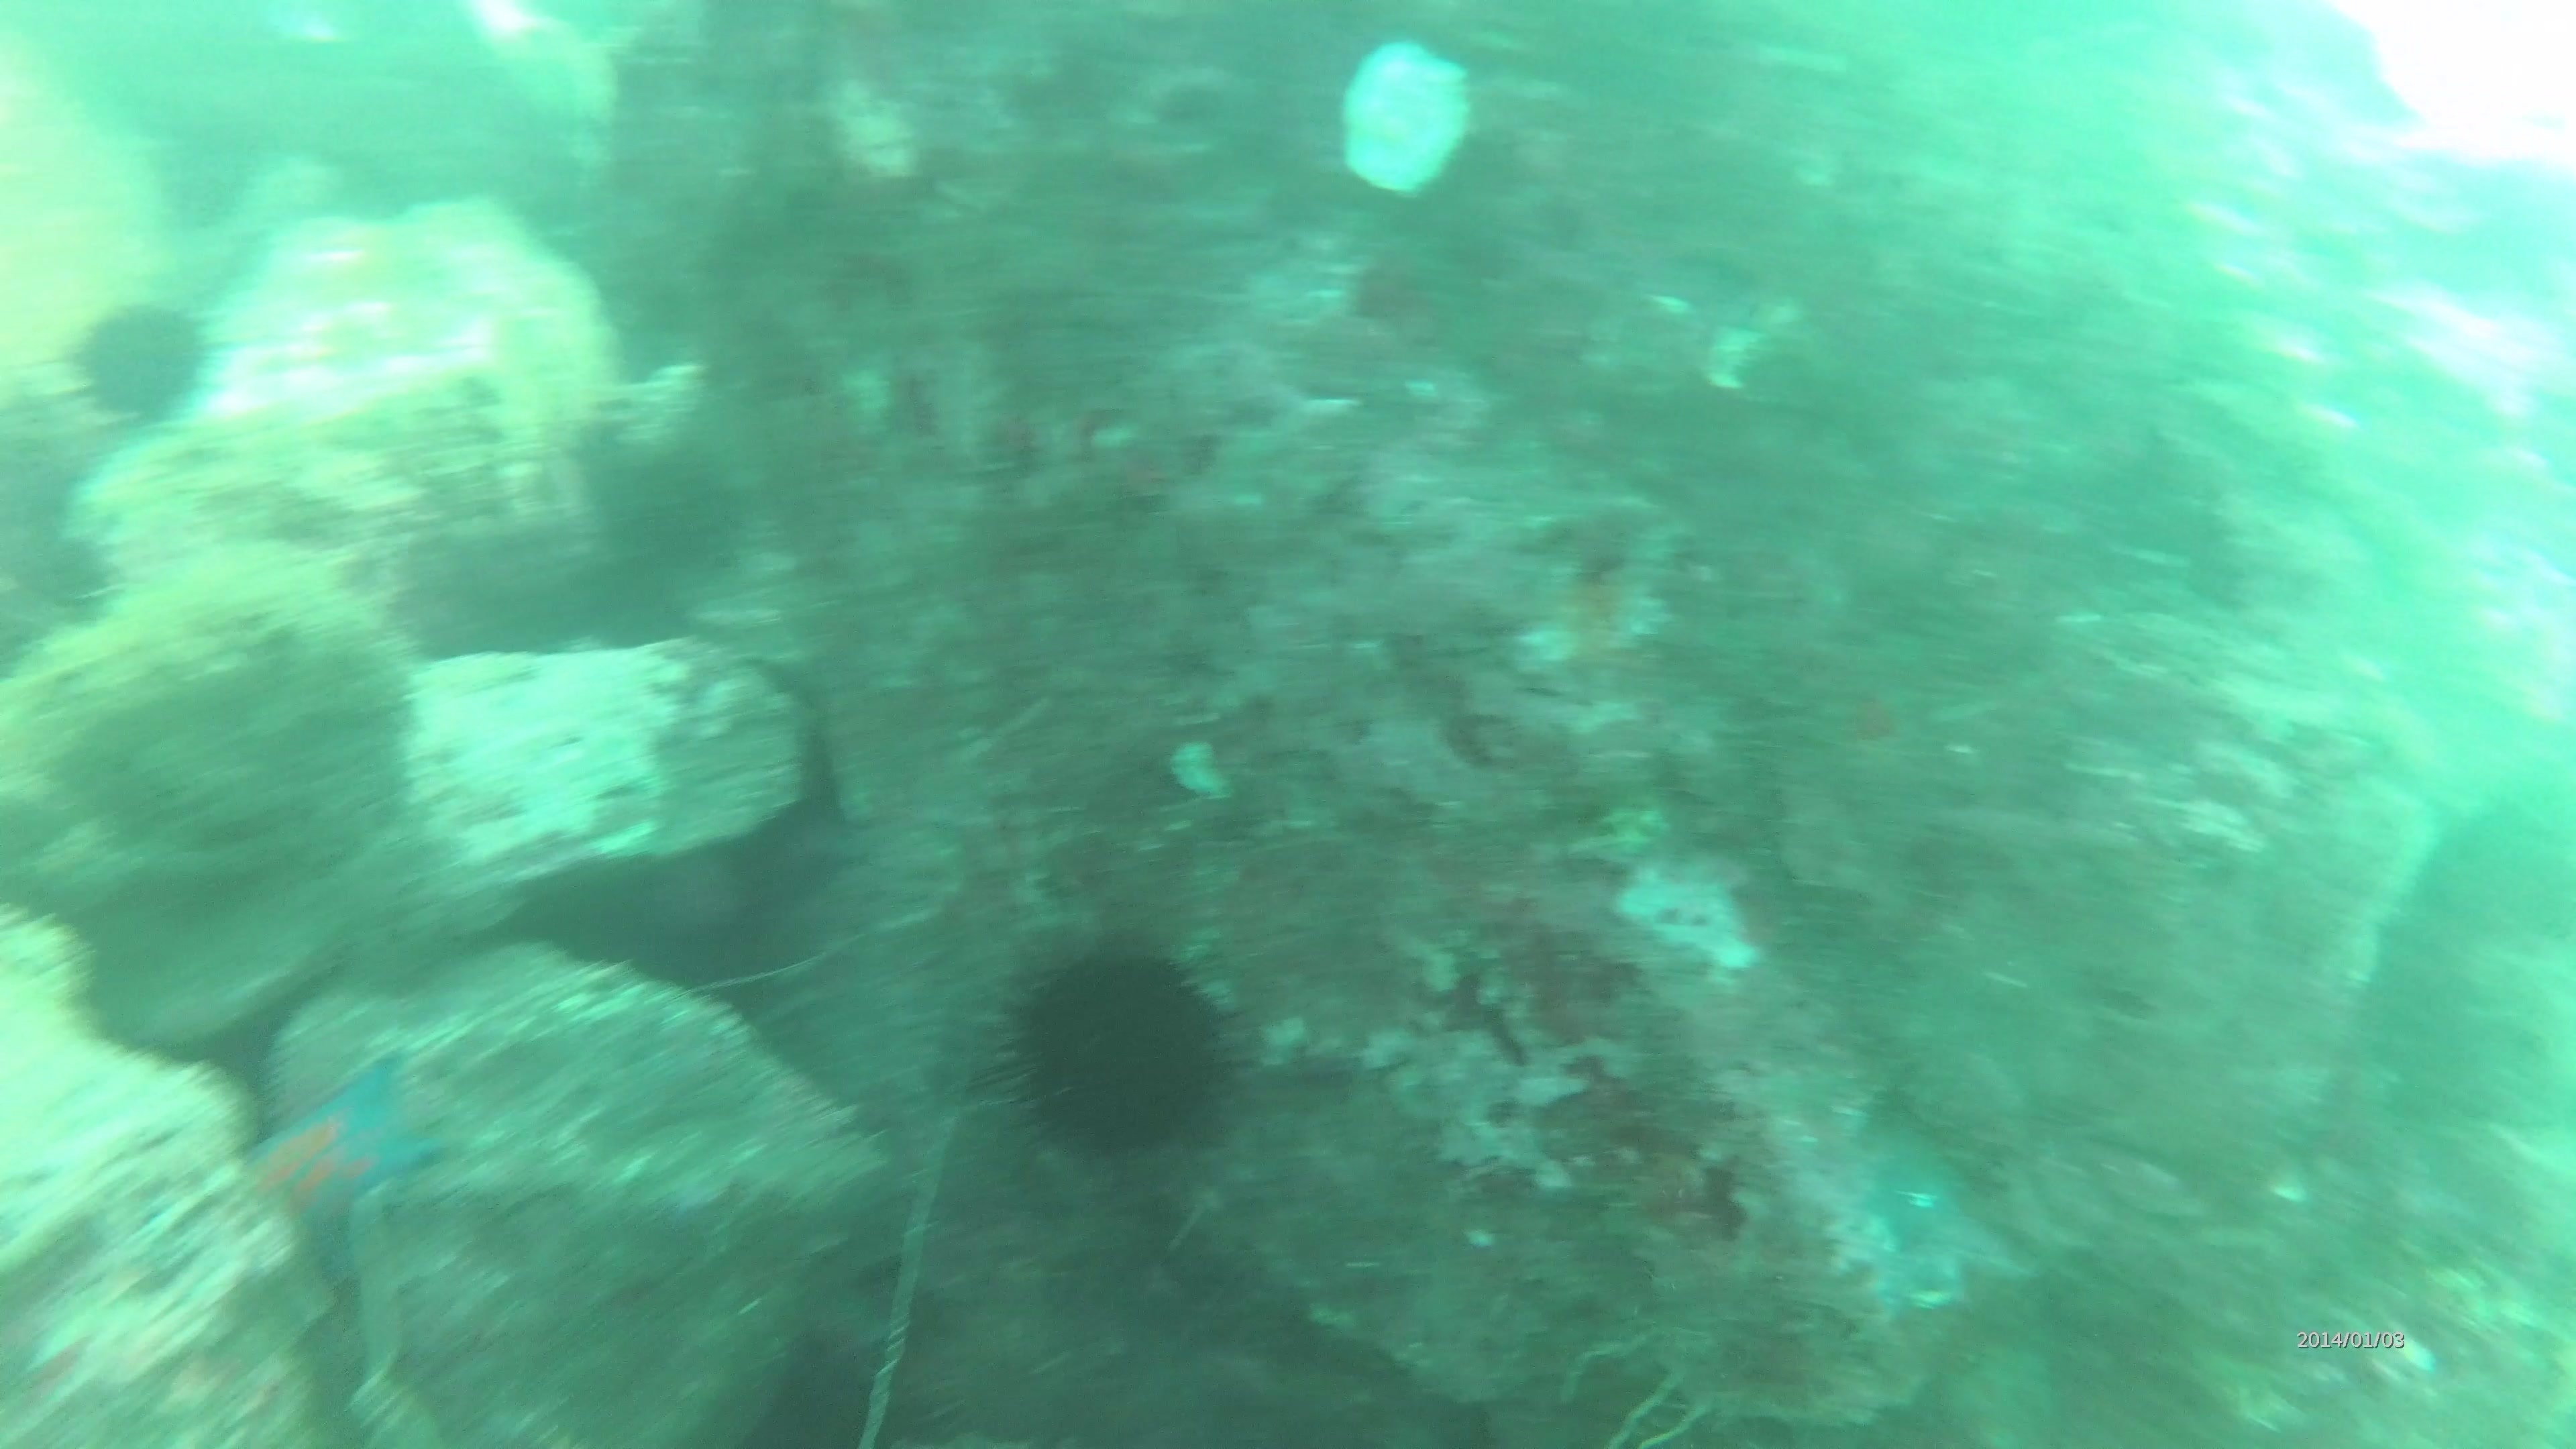echinus: (984, 925, 1253, 1168), (64, 294, 218, 432)
starfish: (235, 1053, 446, 1292)
